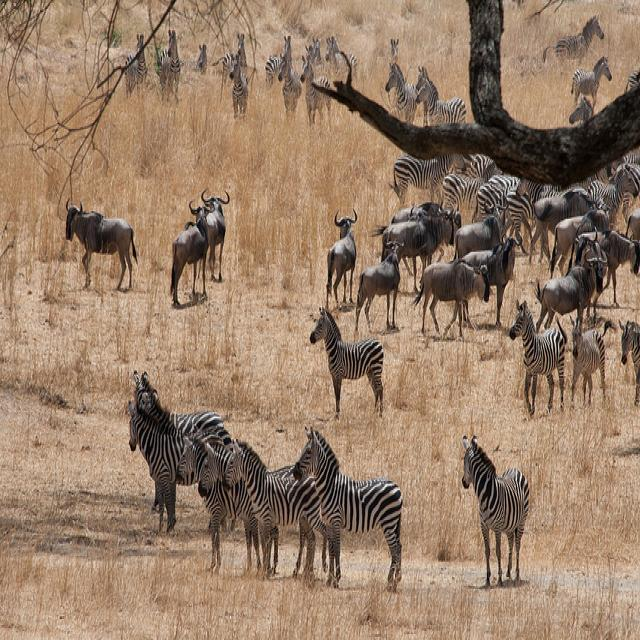cow: (380, 196, 462, 291), (410, 258, 489, 337), (168, 198, 214, 303), (548, 209, 608, 278), (452, 194, 512, 260), (325, 207, 356, 309), (200, 186, 228, 279)
